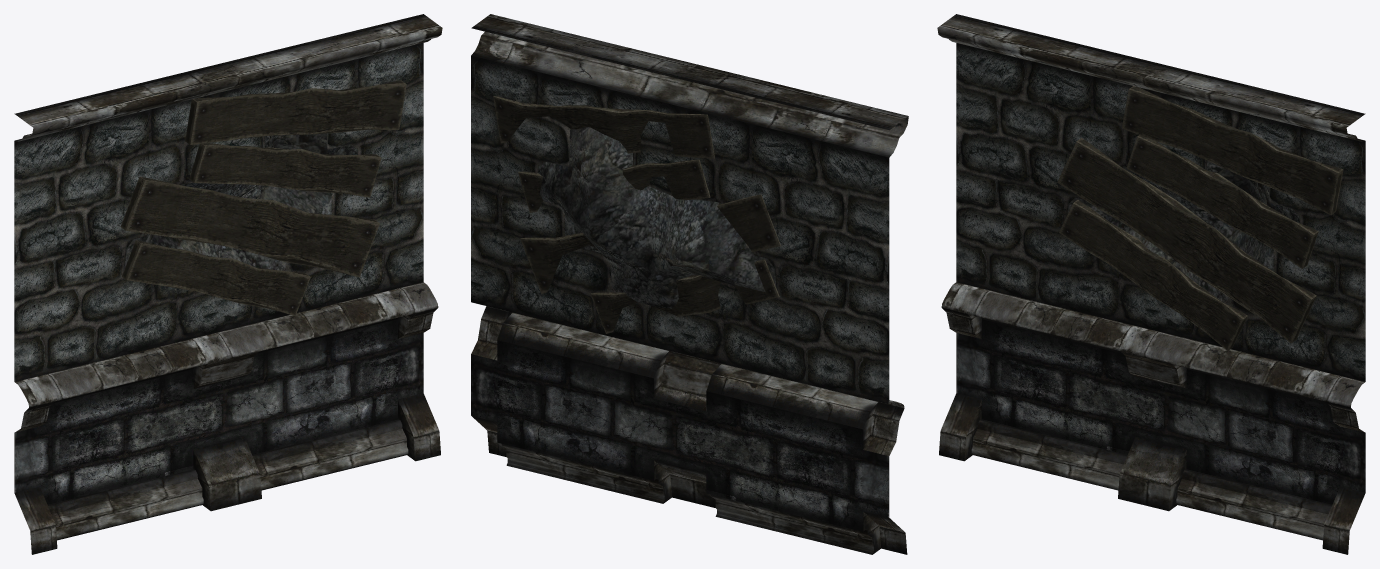
The model's file is default_broken02.dae.
3 renders of one model, left to right at view 1: azimuth 30°, elevation 25°; view 2: azimuth 150°, elevation 25°; view 3: azimuth 330°, elevation 25°, orthographic. The views are drawn at different scales.
Visible parts, largest first — view 1: polySurface120, polySurface121, polySurface116; view 2: polySurface120, polySurface116, polySurface121; view 3: polySurface120, polySurface121, polySurface116.
Part boxes in pixels (x1,y1,x2,y2): polySurface120: [14, 14, 442, 554]; polySurface121: [120, 80, 406, 315]; polySurface116: [125, 133, 357, 270]; polySurface120: [471, 14, 908, 554]; polySurface116: [538, 127, 776, 308]; polySurface121: [493, 96, 780, 333]; polySurface120: [937, 14, 1365, 554]; polySurface121: [1057, 86, 1343, 350]; polySurface116: [1067, 161, 1299, 302].
Size of what is drawn, in the model's own units: 4 by 4 by 0.6759.
